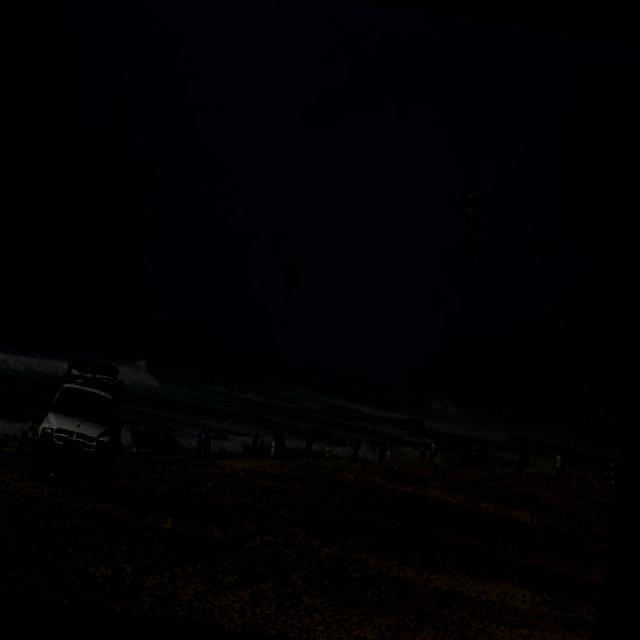Vehicle: (24, 352, 134, 501)
